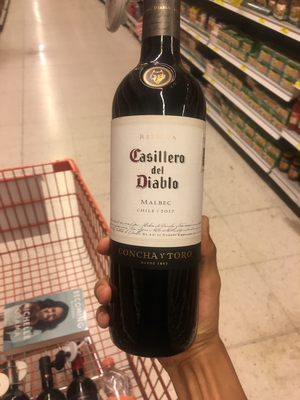casillero del diablo malbec: (103, 15, 220, 351)
